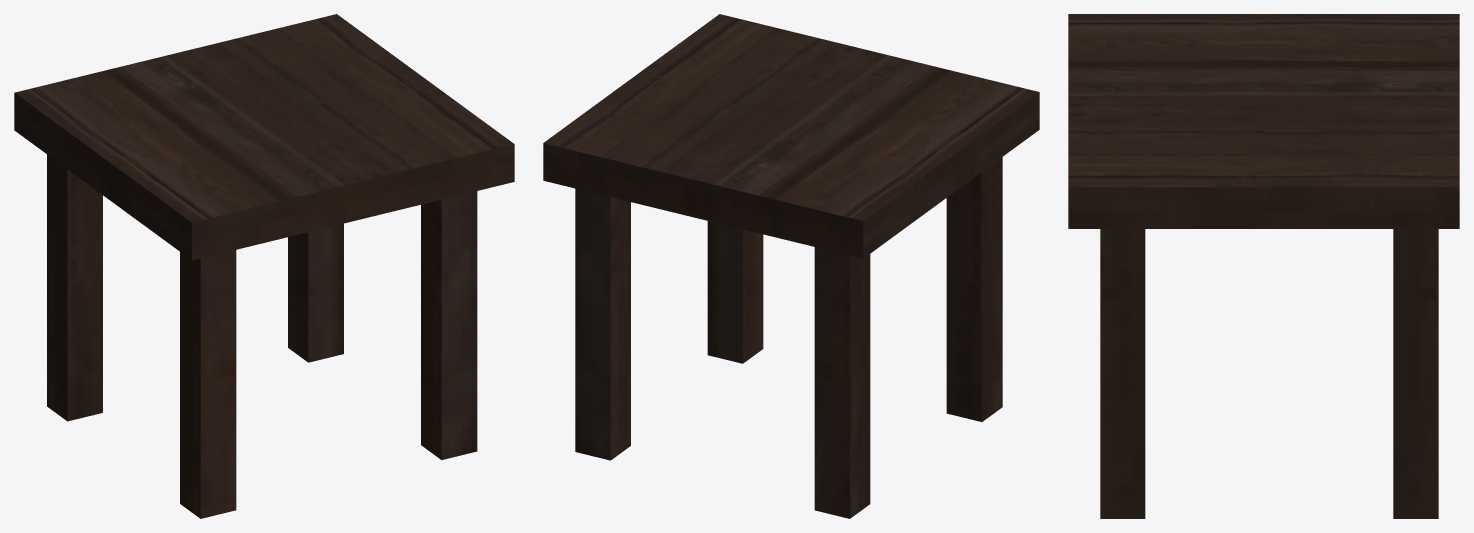
Rendered from Stool.fbx.
3 views of the same model, side by side, from view 1: azimuth 30°, elevation 25°; view 2: azimuth 150°, elevation 25°; view 3: azimuth 270°, elevation 25° (orthographic). The views are drawn at different scales.
Visible parts, largest first — view 1: Stool; view 2: Stool; view 3: Stool.
Part boxes in pixels (x1,y1,x2,y2): Stool: (14, 14, 514, 518); Stool: (543, 14, 1039, 518); Stool: (1068, 14, 1459, 518).
Size of the model in its own units: 103 by 95.84 by 98.77.
Materials: 1 (1 with a texture image).
